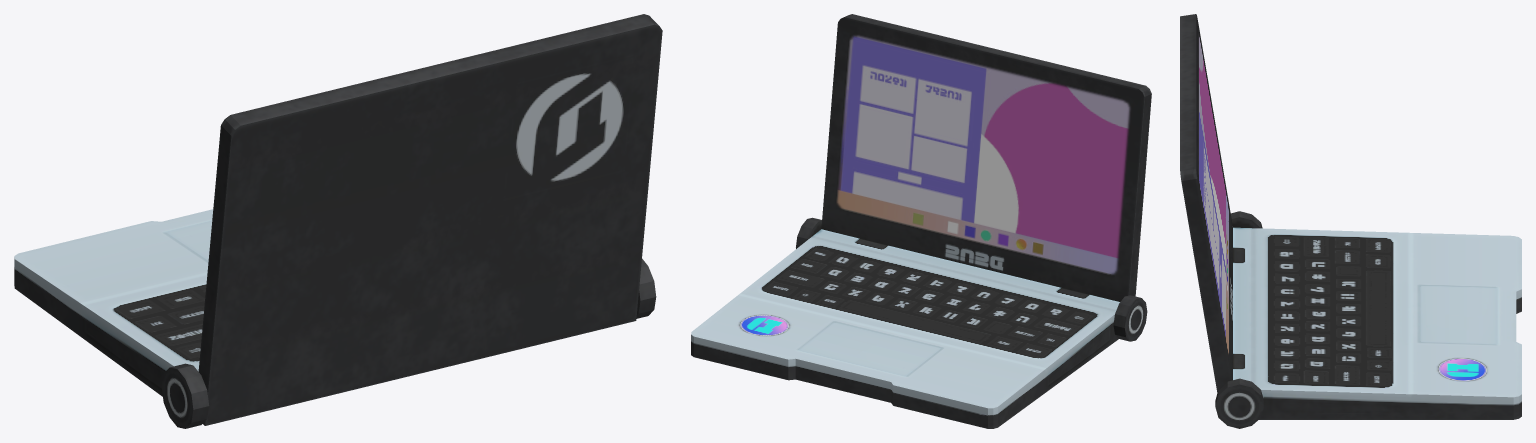
The model's file is P_Computer_001_S1_M03.obj.
The picture shows the model from 3 angles, left to right: view 1: azimuth 30°, elevation 25°; view 2: azimuth 150°, elevation 25°; view 3: azimuth 270°, elevation 25°; orthographic projection. The views are drawn at different scales.
Bounding box in the file's own units: 0.6 × 0.4051 × 0.5.
Materials: 1 (1 with a texture image).
